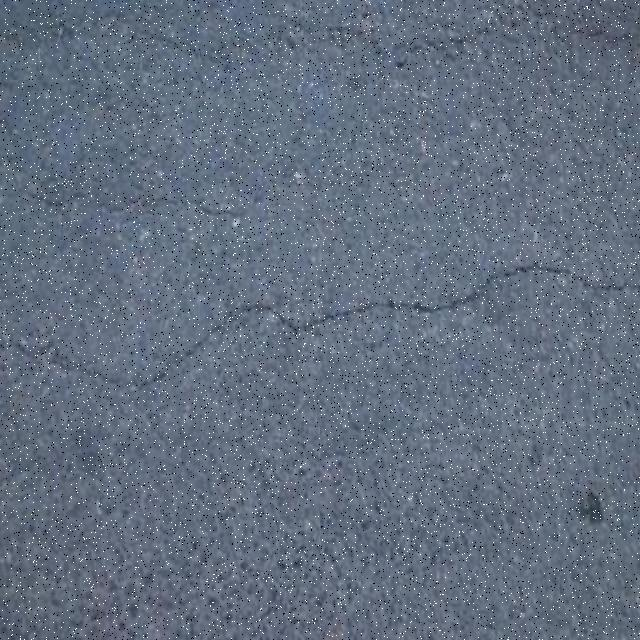Crack: (22, 24, 570, 217), (0, 264, 640, 388), (575, 30, 634, 44), (0, 161, 24, 183)
